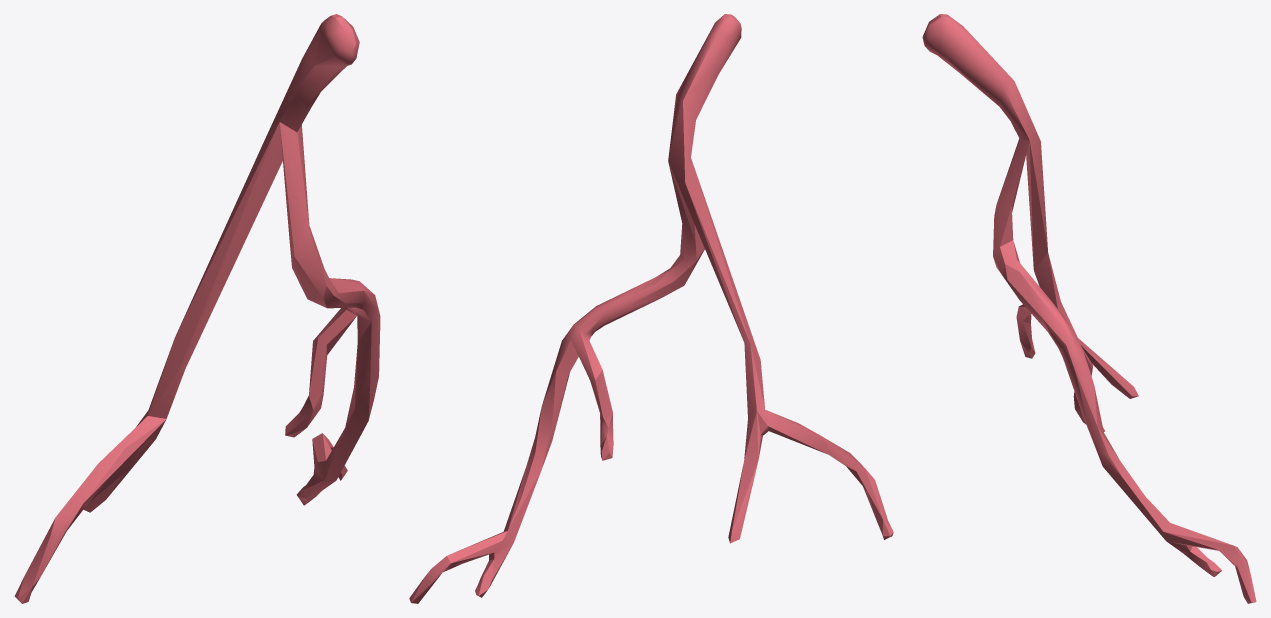
File: fma14773_fj3420.glb
3 renders of one model, left to right at view 1: azimuth 30°, elevation 25°; view 2: azimuth 150°, elevation 25°; view 3: azimuth 270°, elevation 25°, orthographic. The views are drawn at different scales.
Visible parts, largest first — view 1: FMA14773_FJ3420; view 2: FMA14773_FJ3420; view 3: FMA14773_FJ3420.
Part boxes in pixels (box(x1,y1,x2,y2)): FMA14773_FJ3420: box(14, 14, 380, 603); FMA14773_FJ3420: box(409, 14, 893, 603); FMA14773_FJ3420: box(922, 14, 1256, 603).
Bounding box in the file's own units: 0.00678 × 0.00898 × 0.0053.
